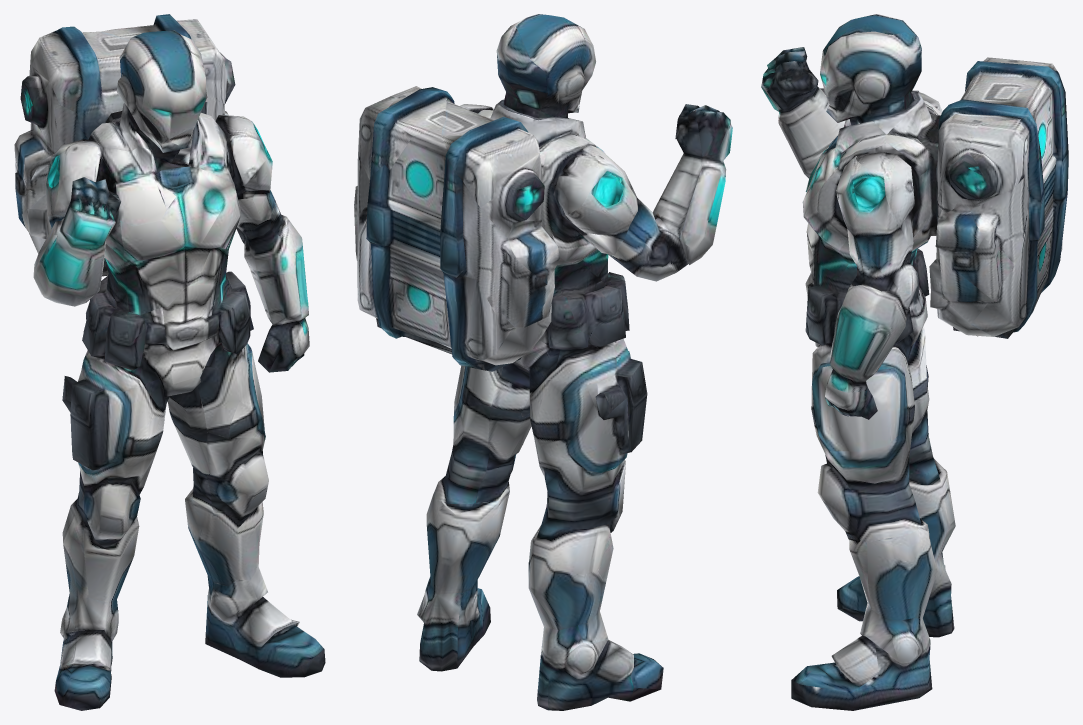
Rendered from healer.glb.
3 views of the same model, side by side, from view 1: azimuth 30°, elevation 25°; view 2: azimuth 150°, elevation 25°; view 3: azimuth 270°, elevation 25° (orthographic). The views are drawn at different scales.
Parts seen in each view (by area): view 1: human-healer; view 2: human-healer; view 3: human-healer.
Boxes of the visible parts, left/top/right/bottom form: human-healer: left=14, top=14, right=325, bottom=710; human-healer: left=354, top=14, right=732, bottom=710; human-healer: left=761, top=14, right=1068, bottom=710.
Bounding box in the file's own units: 0.5897 × 1.3 × 0.5746.
Materials: 1 (1 with a texture image).
